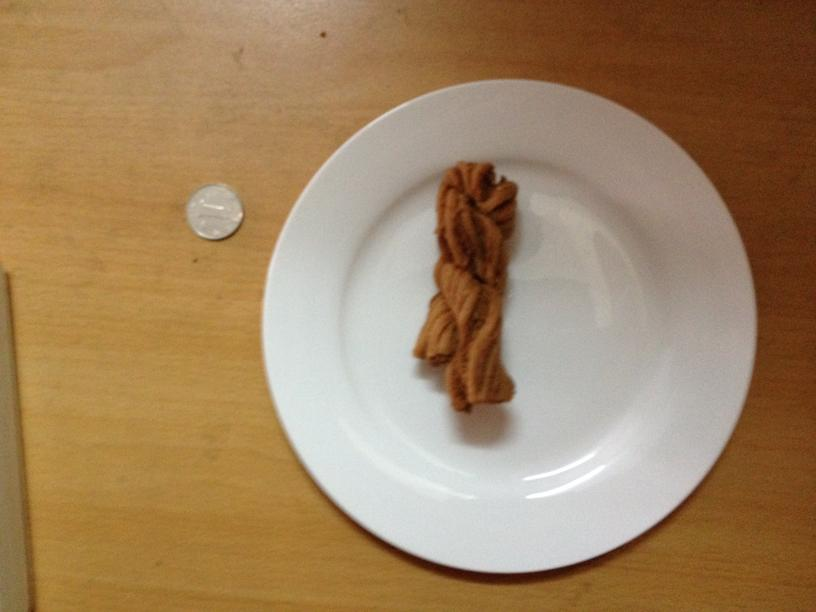coin: (181, 179, 244, 239)
fired_dough_twist: (423, 163, 516, 409)
